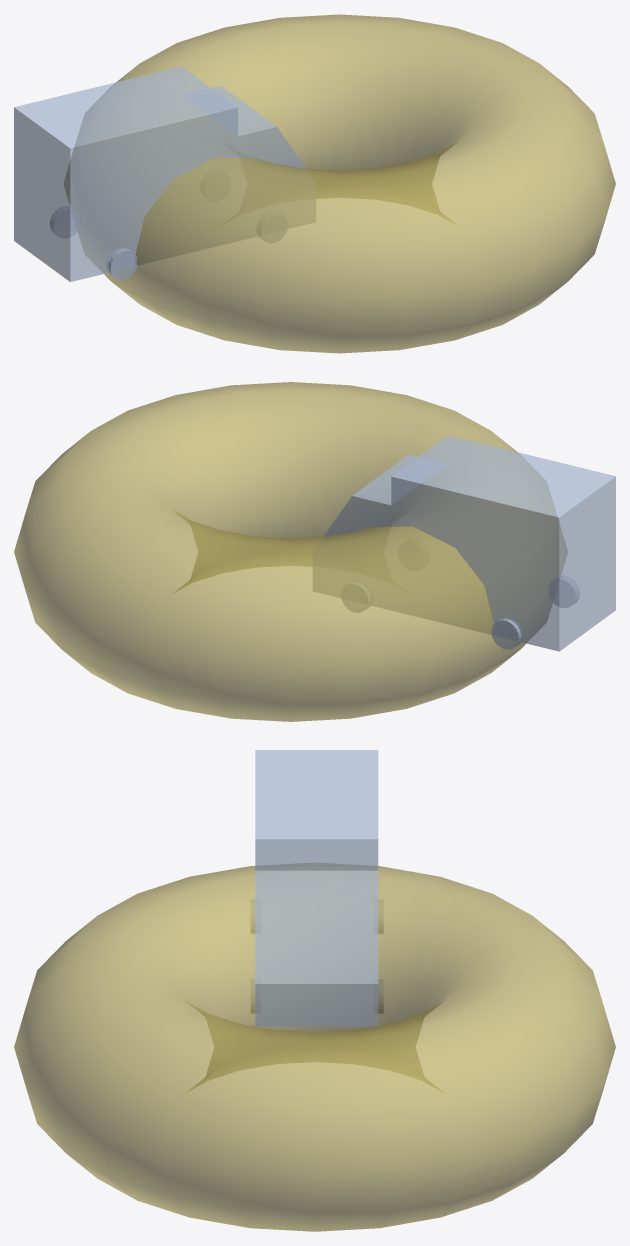
Rendered from example-animation.glb.
3 renders of one model, top to bottom at view 1: azimuth 30°, elevation 25°; view 2: azimuth 150°, elevation 25°; view 3: azimuth 270°, elevation 25°, orthographic. The views are drawn at different scales.
Parts seen in each view (by area): view 1: Torus001, Car_09; view 2: Torus001, Car_09; view 3: Torus001, Car_09.
Boxes of the visible parts, <box> form: Torus001: <box>64,14,615,353</box>; Car_09: <box>14,66,315,281</box>; Torus001: <box>14,382,567,721</box>; Car_09: <box>313,435,615,651</box>; Torus001: <box>14,863,615,1231</box>; Car_09: <box>251,750,382,1026</box>.
Size of the model in its own units: 668 by 252 by 596.
